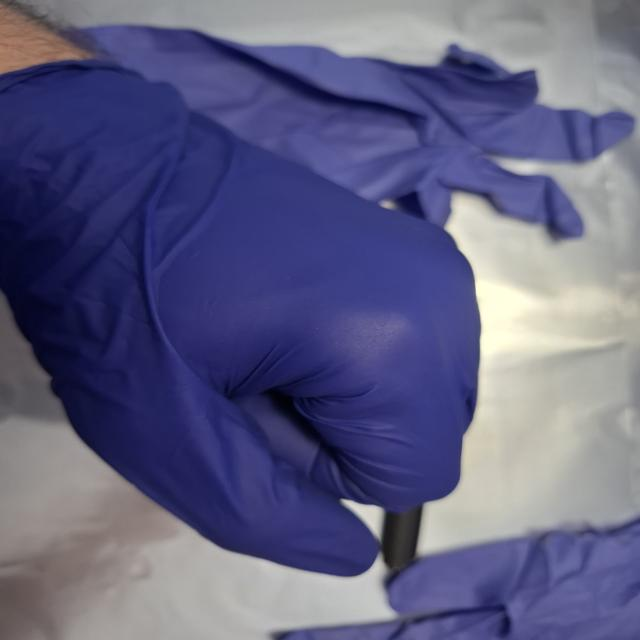glove_on: (0, 52, 488, 581)
